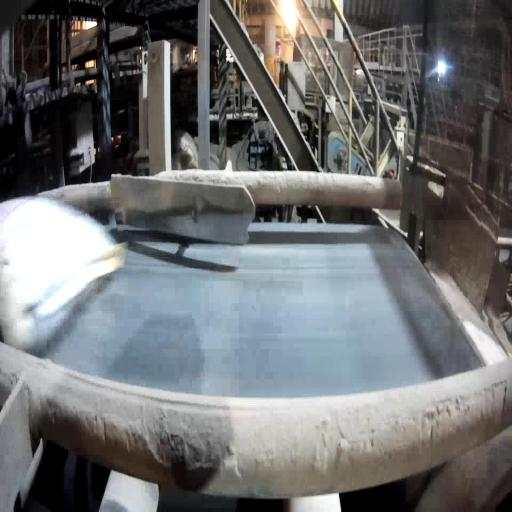c-belt-sack-count: (0, 197, 125, 350)
